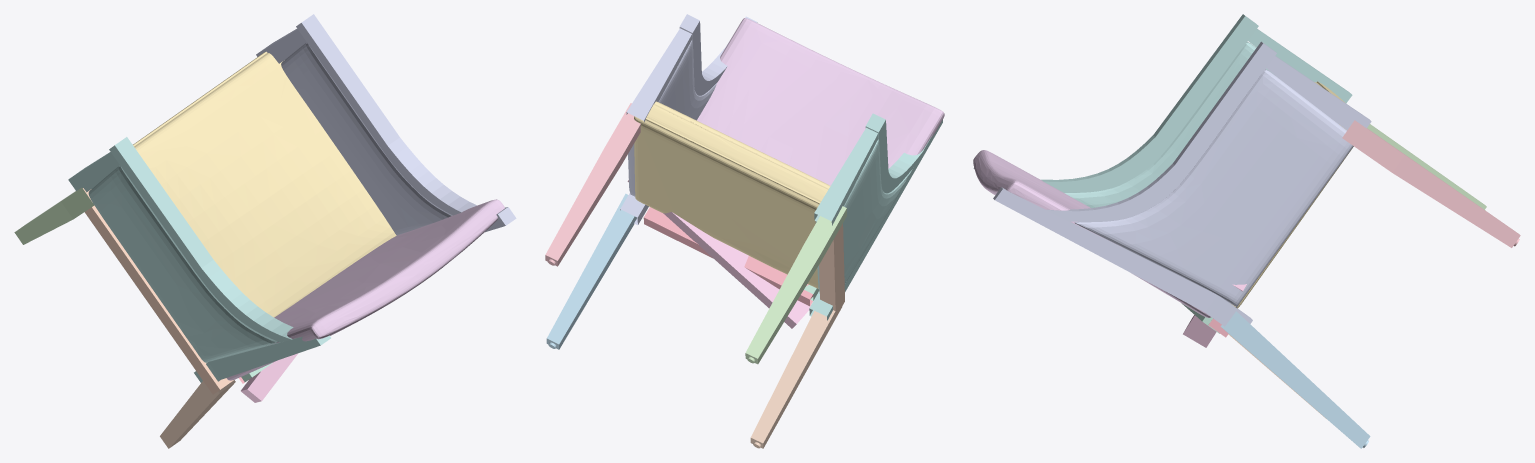
The model's file is 0c409bce_colored.glb.
3 renders of one model, left to right at view 1: azimuth 30°, elevation 25°; view 2: azimuth 150°, elevation 25°; view 3: azimuth 270°, elevation 25°, orthographic. The views are drawn at different scales.
Visible parts, largest first — view 1: world; view 2: world; view 3: world.
Part boxes in pixels (bbox=[...]): world: bbox=[14, 14, 516, 448]; world: bbox=[545, 14, 944, 448]; world: bbox=[973, 14, 1520, 448].
Size of the model in its own units: 0.6333 by 0.8252 by 0.9522.
